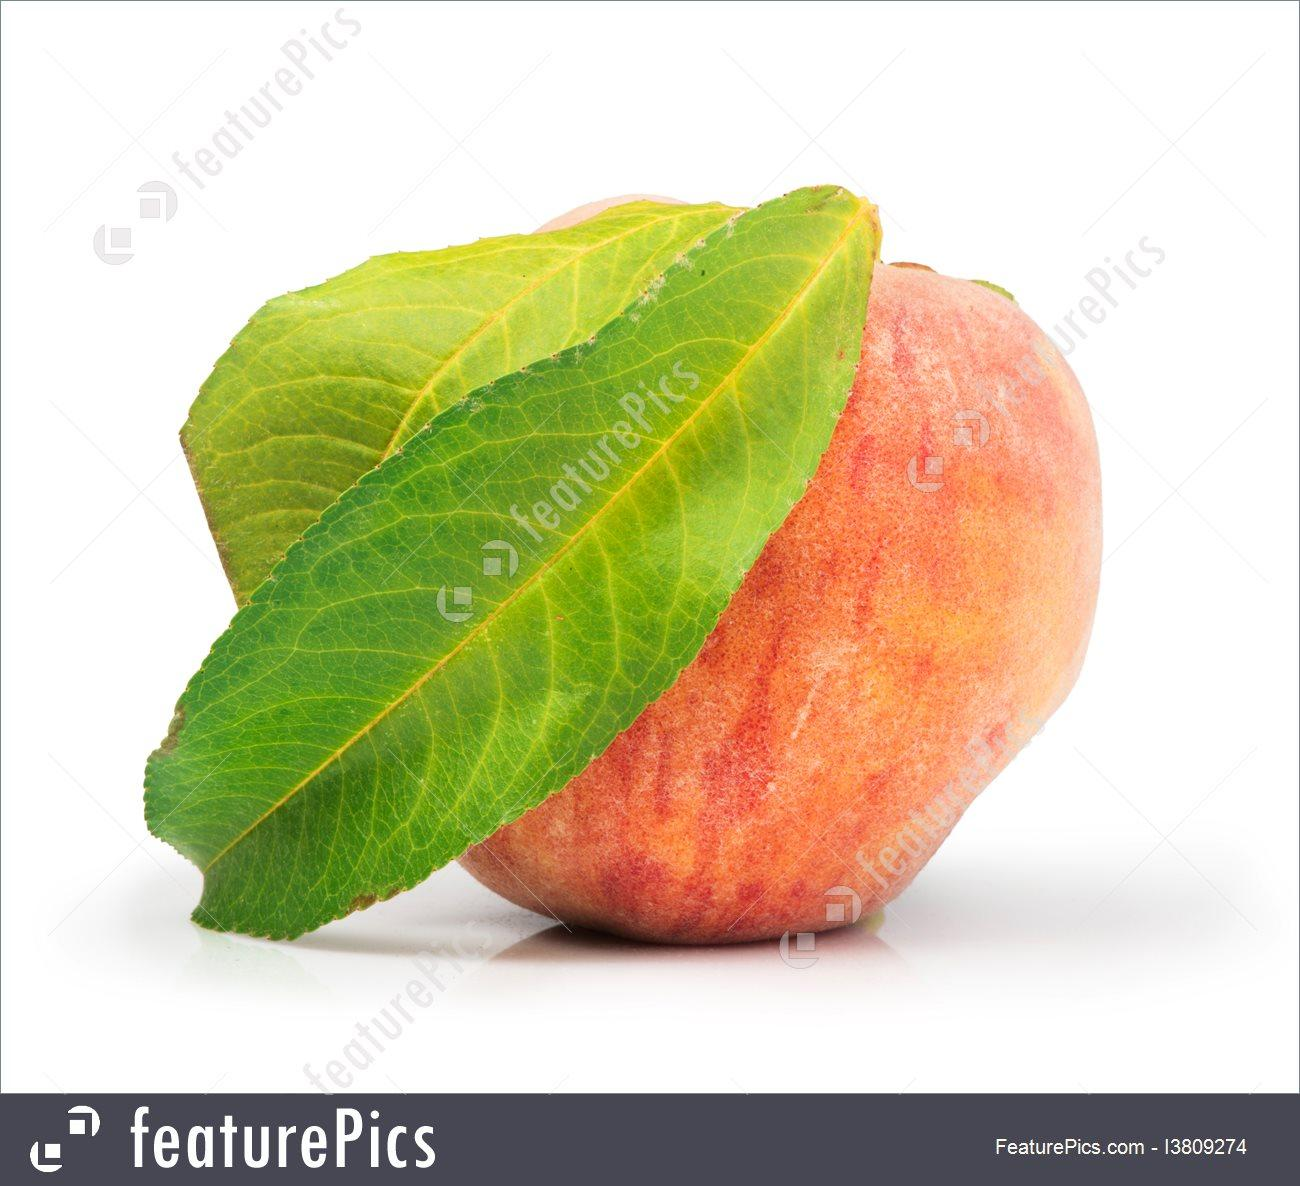Peach leaf: (159, 194, 880, 902), (189, 200, 705, 574)
